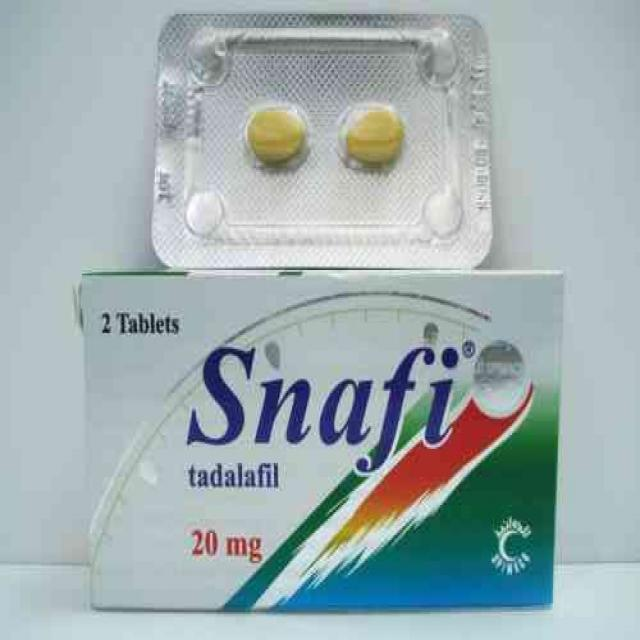drug-name: (178, 339, 462, 475)
